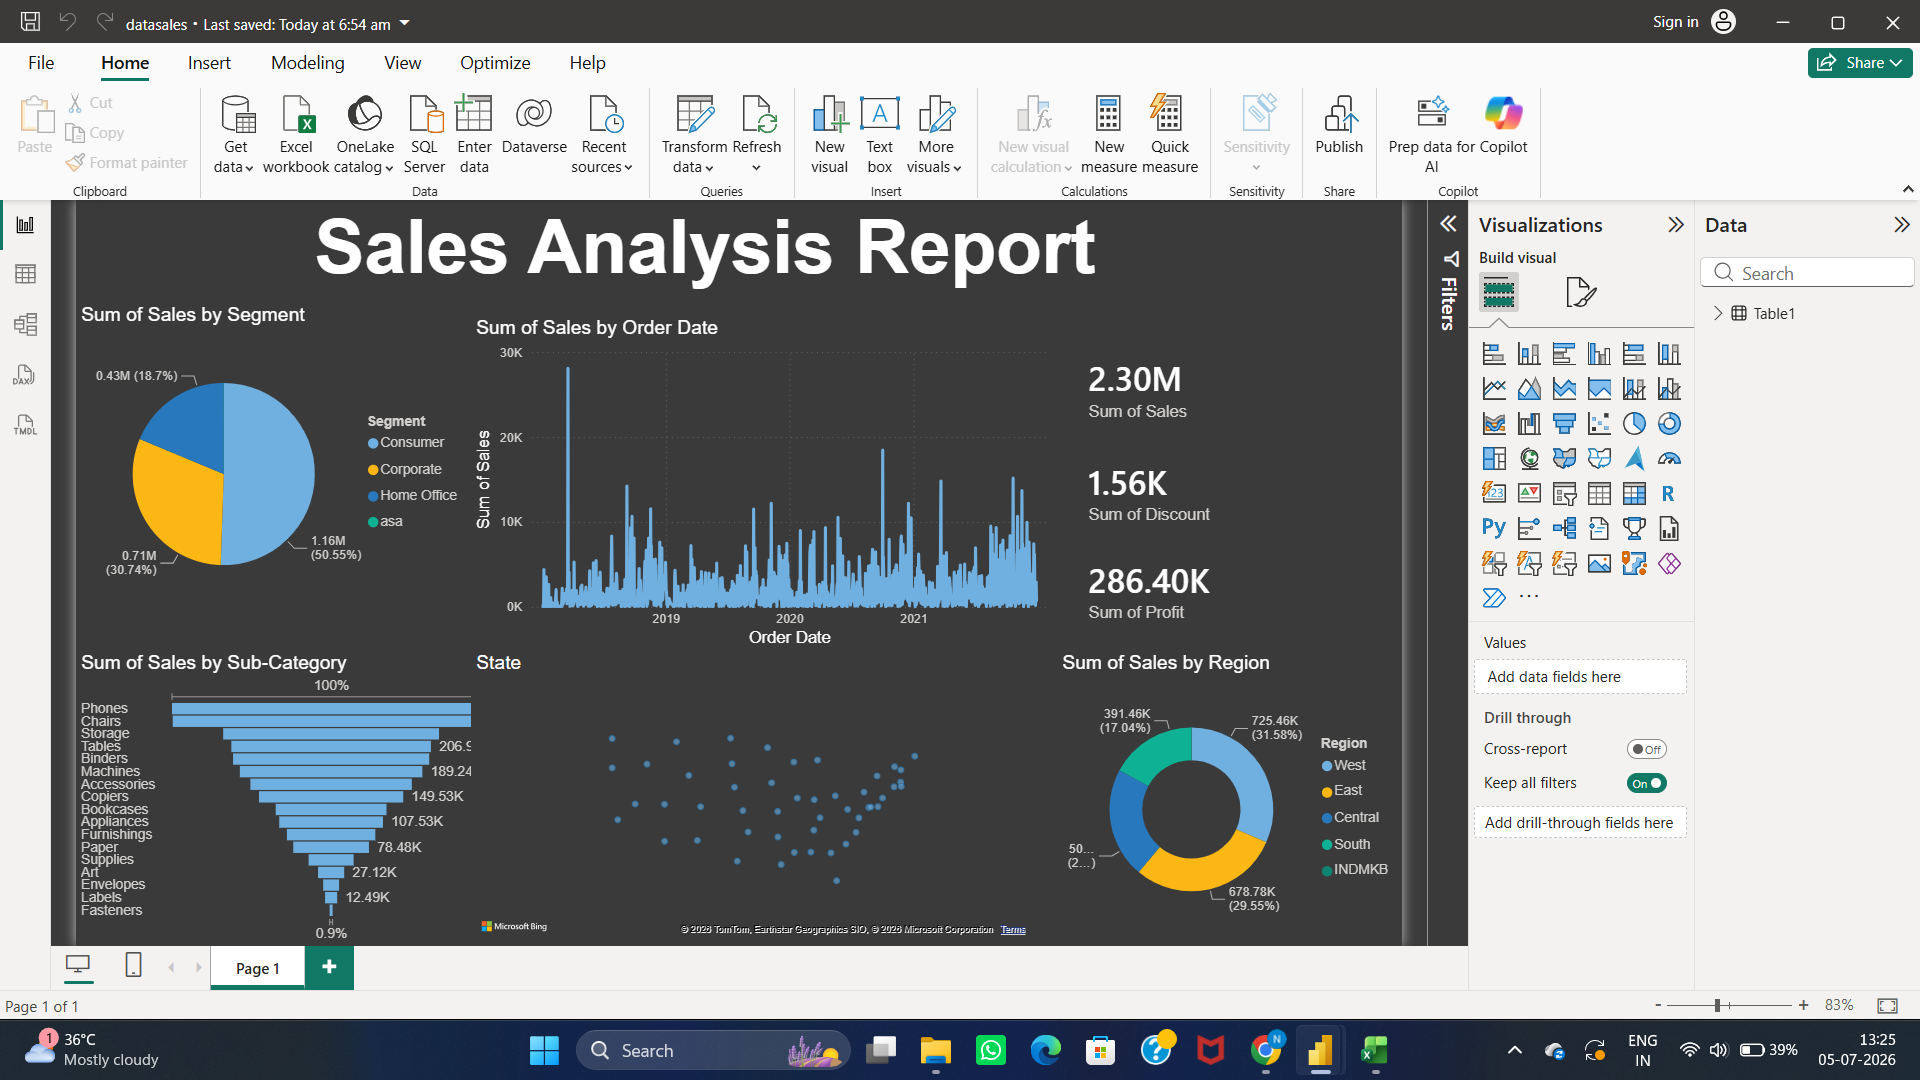

The dashboard page shown, as its layout file describes it:
{"tool":"powerbi","page":{"name":"Page 1","canvas":[1280,720],"ordinal":0},"visuals":[{"type":"donutChart","fields":{"Category":["Table1.Region"],"Y":["Sum(Table1.Sales)"]},"box":[946.7,435,333.3,285],"z":0},{"type":"funnel","fields":{"Category":["Table1.Sub-Category"],"Y":["Sum(Table1.Sales)"]},"box":[0,435,410,285],"z":1000},{"type":"map","fields":{"Category":["Table1.State"]},"box":[381.7,435,565,285],"z":2000},{"type":"pieChart","fields":{"Category":["Table1.Segment"],"Y":["Sum(Table1.Sales)"]},"box":[0,100,381.7,308.3],"z":2001},{"type":"lineChart","fields":{"Category":["Table1.Order Date"],"Y":["Sum(Table1.Sales)"]},"box":[381.7,111.7,565,323.3],"z":2002},{"type":"cardVisual","fields":{"Data":["Sum(Table1.Discount)"]},"box":[946.7,230,333.3,100],"z":2004},{"type":"cardVisual","fields":{"Data":["Sum(Table1.Sales)"]},"box":[946.7,131.7,333.3,98.3],"z":2005},{"type":"cardVisual","fields":{"Data":["Sum(Table1.Profit)"]},"box":[946.7,316.7,333.3,118.3],"z":2006},{"type":"textbox","box":[23.3,0,1168.3,100],"z":2007}]}

Visuals, with their boxes on the page's 1280x720 design canvas (x1, y1, x2, y2). These are canvas units, not pixel positions in the 1920x1080 screenshot, which may show the page scaled, cropped or inside an application window:
donutChart - Table1.Region x Sum(Table1.Sales): rect(947, 435, 1280, 720)
funnel - Table1.Sub-Category x Sum(Table1.Sales): rect(0, 435, 410, 720)
map - Table1.State: rect(382, 435, 947, 720)
pieChart - Table1.Segment x Sum(Table1.Sales): rect(0, 100, 382, 408)
lineChart - Table1.Order Date x Sum(Table1.Sales): rect(382, 112, 947, 435)
cardVisual - Sum(Table1.Discount): rect(947, 230, 1280, 330)
cardVisual - Sum(Table1.Sales): rect(947, 132, 1280, 230)
cardVisual - Sum(Table1.Profit): rect(947, 317, 1280, 435)
textbox: rect(23, 0, 1192, 100)
